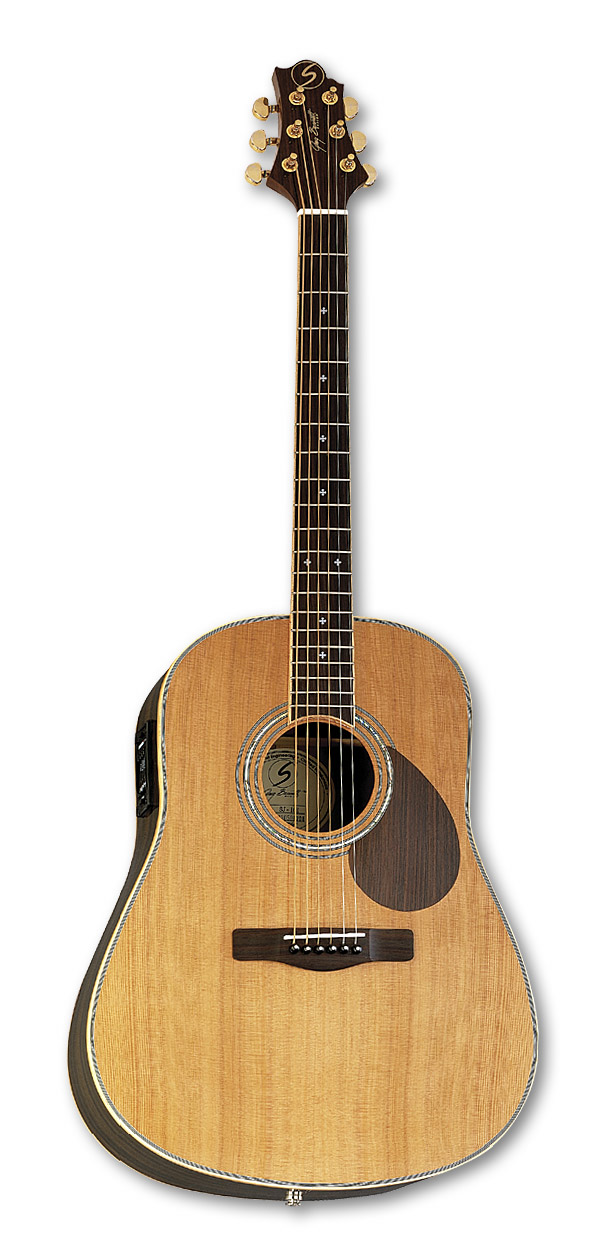guitar: (62, 55, 547, 1210)
